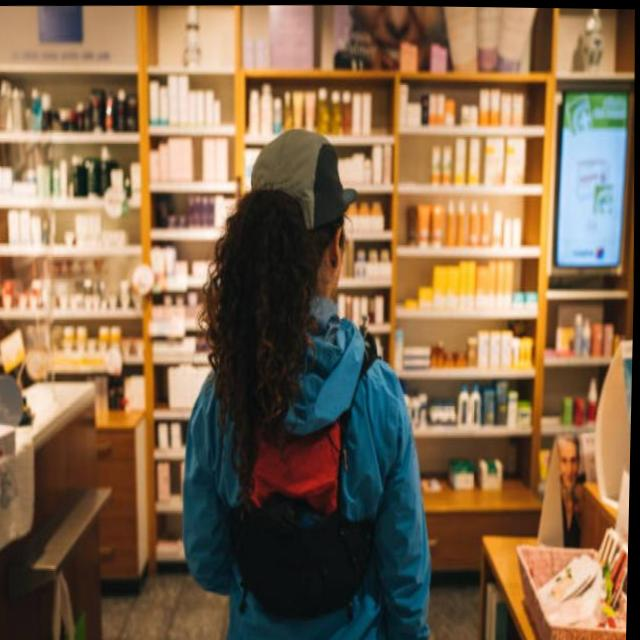no helmet: (239, 115, 356, 328)
